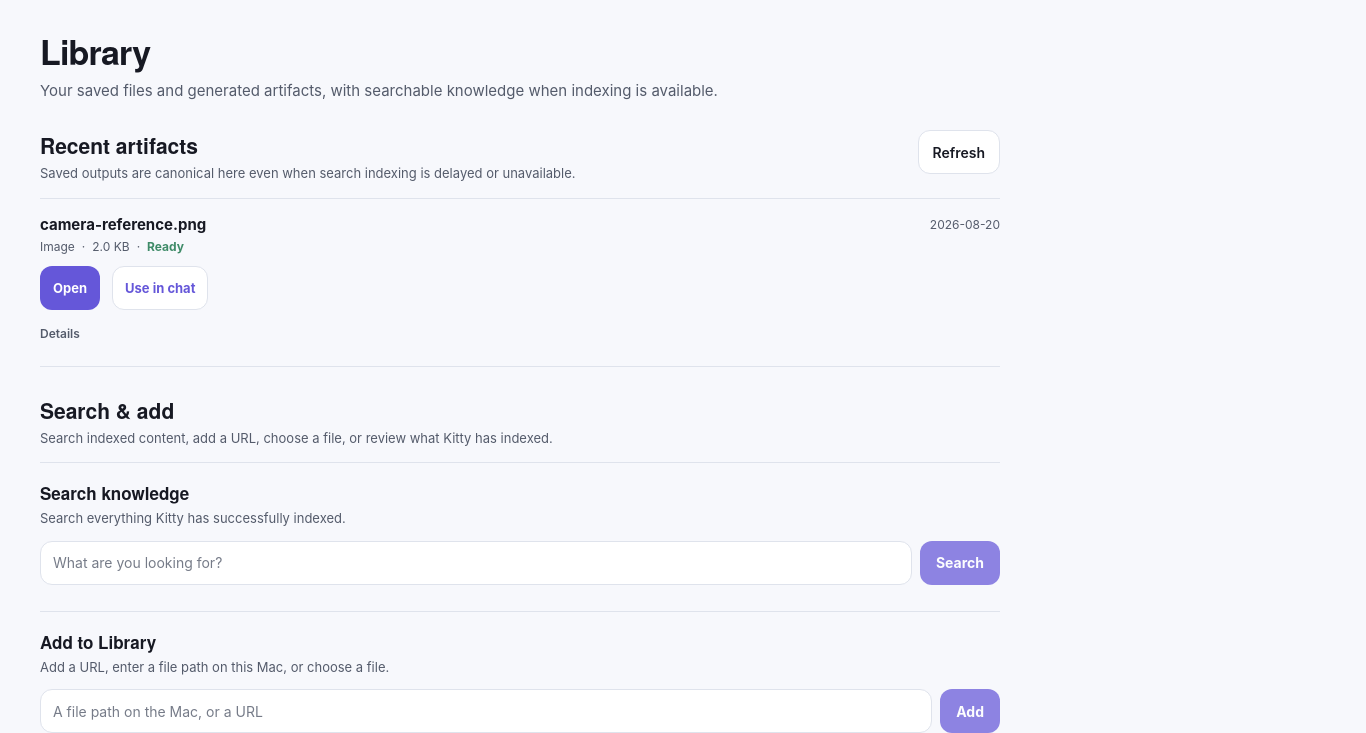
Test: LibraryView artifact truth › translates a use-in-chat failure that carries no reason
Click the button with aria-label "use camera-reference.png in chat" at (160, 288), box left=112, top=266, right=208, bottom=310
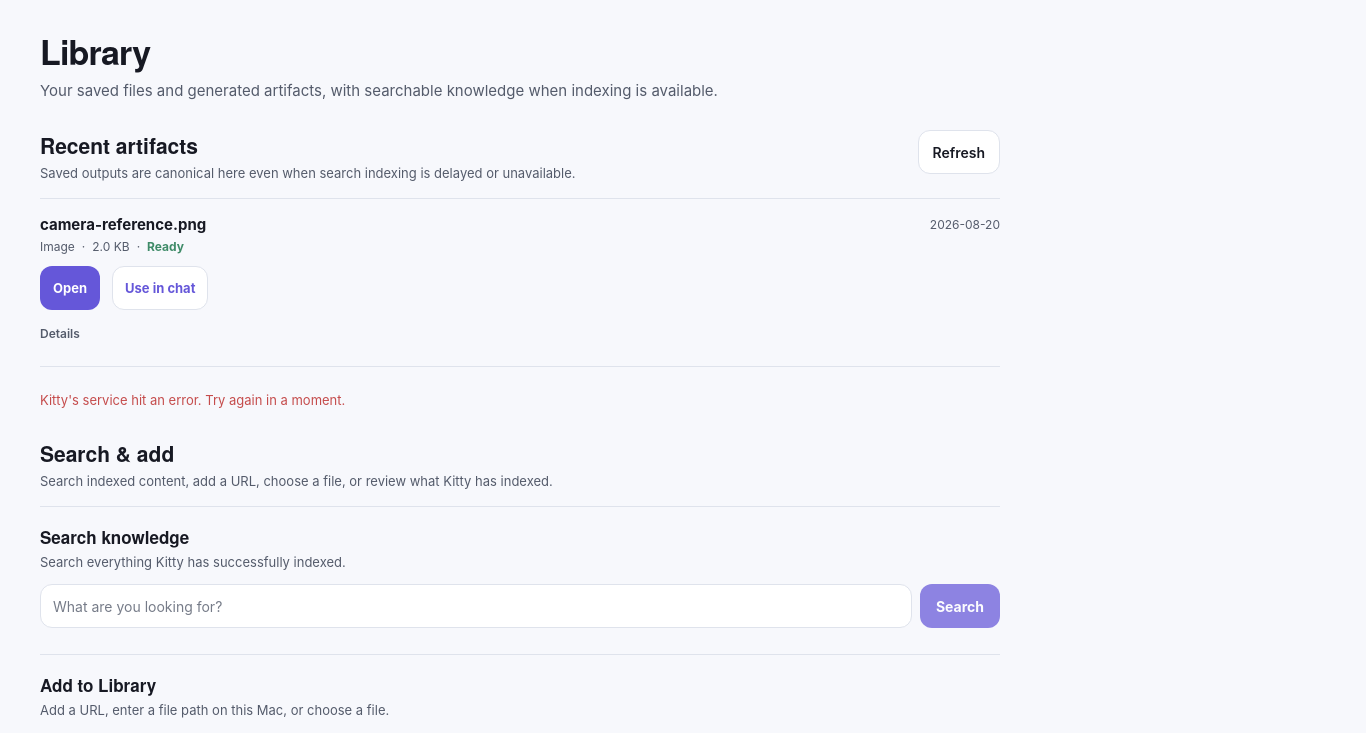
Now the message shows "Kitty's service hit an error", box left=40, top=392, right=345, bottom=408
